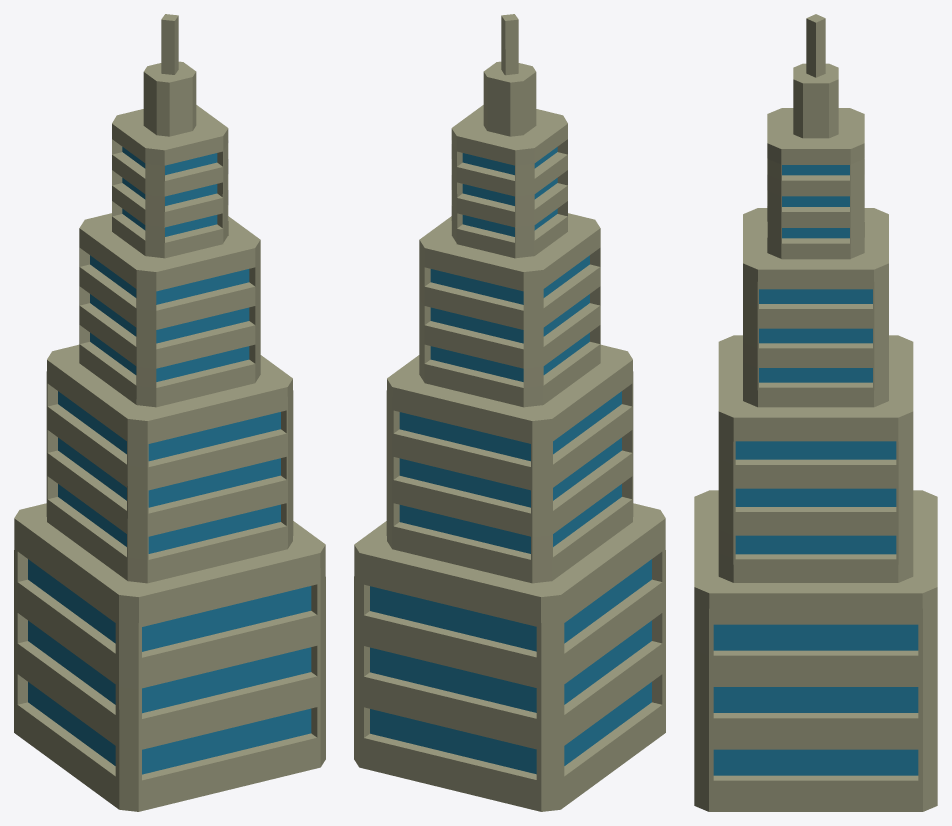
File: wiezowiec.fbx
3 views of the same model, side by side, from view 1: azimuth 30°, elevation 25°; view 2: azimuth 150°, elevation 25°; view 3: azimuth 270°, elevation 25° (orthographic).
Parts seen in each view (by area): view 1: wiezowiec; view 2: wiezowiec; view 3: wiezowiec.
Part boxes in pixels (box(x1,y1,x2,y2)): wiezowiec: box(14, 14, 325, 811); wiezowiec: box(354, 14, 665, 811); wiezowiec: box(694, 14, 937, 811).
Size of the model in its own units: 400 by 1347 by 400.
